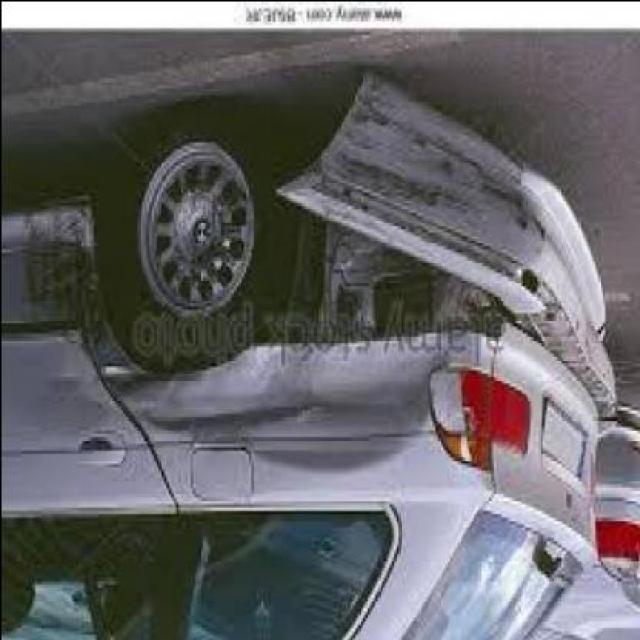damage: (12, 68, 618, 470)
